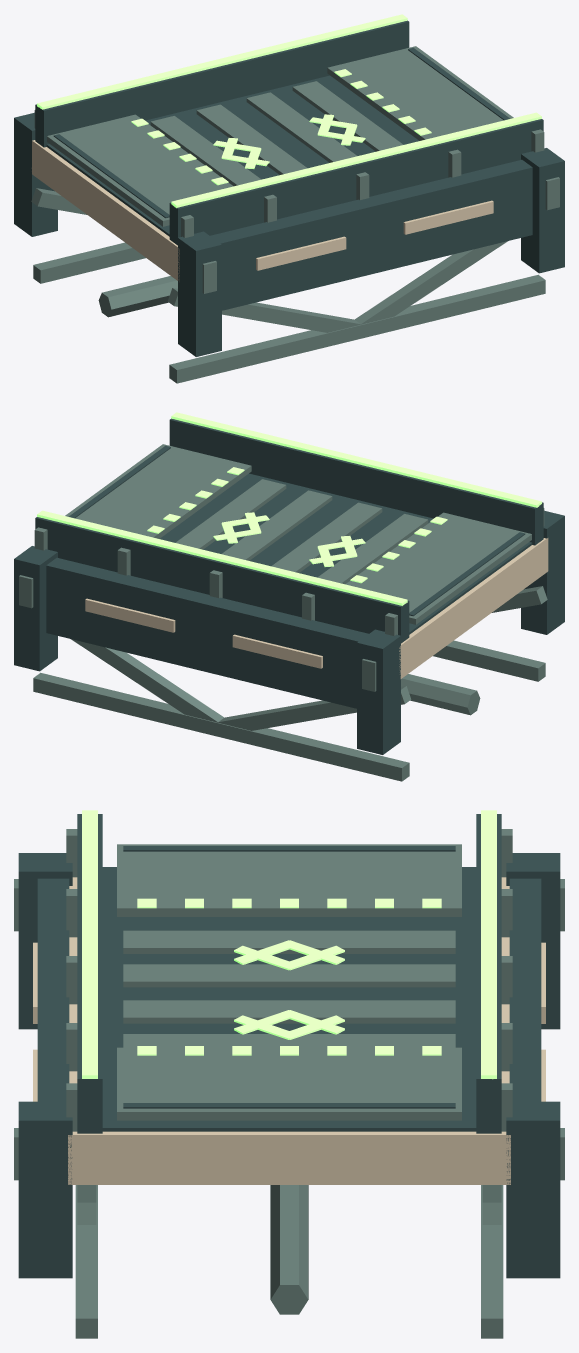
Rendered from Deck_Conveyor_Belt_v4_4_lab2.glb.
3 views of the same model, one above another, from view 1: azimuth 30°, elevation 25°; view 2: azimuth 150°, elevation 25°; view 3: azimuth 270°, elevation 25° (orthographic). The views are drawn at different scales.
Visible parts, largest first — view 1: Deck_Conveyor_Belt_v4_4, Treads, TreadsRev; view 2: Deck_Conveyor_Belt_v4_4, Treads, TreadsRev; view 3: Deck_Conveyor_Belt_v4_4, Treads, TreadsRev.
Part boxes in pixels (bbox=[...]): Deck_Conveyor_Belt_v4_4: bbox=[14, 14, 564, 383]; Treads: bbox=[151, 81, 403, 183]; TreadsRev: bbox=[150, 81, 402, 186]; Deck_Conveyor_Belt_v4_4: bbox=[14, 412, 564, 781]; Treads: bbox=[176, 479, 427, 582]; TreadsRev: bbox=[175, 479, 428, 584]; Deck_Conveyor_Belt_v4_4: bbox=[14, 810, 564, 1338]; Treads: bbox=[123, 930, 455, 1047]; TreadsRev: bbox=[123, 940, 455, 1047].
Size of the model in its own units: 4.05 by 1.83 by 3.48.
